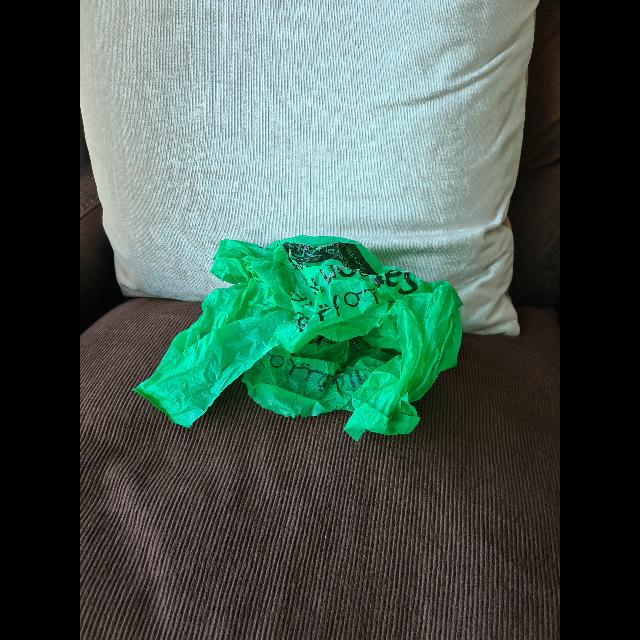plastic_bag: (126, 224, 484, 464)
